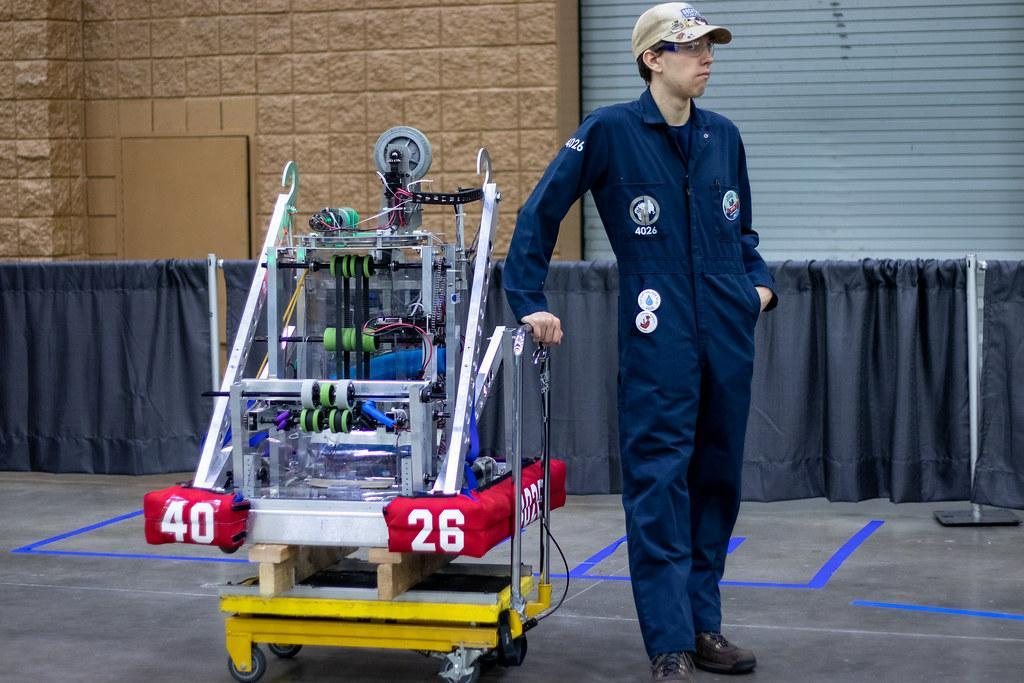robot: (134, 109, 581, 564)
